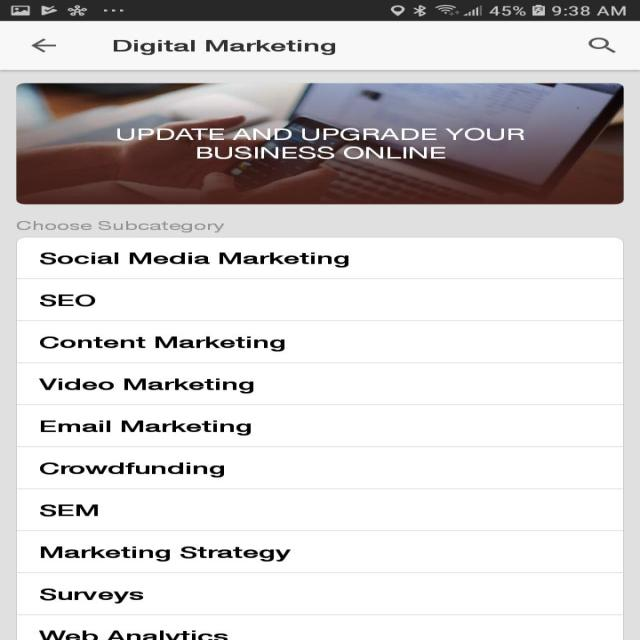Icon: (586, 36, 616, 53), (31, 38, 57, 53)
Image: (15, 83, 623, 204)
Text: (114, 126, 524, 160), (39, 252, 349, 267), (40, 545, 291, 562), (39, 335, 285, 352), (113, 39, 335, 56), (38, 377, 254, 394), (40, 419, 251, 436), (39, 461, 224, 478), (16, 220, 225, 233), (38, 630, 228, 640), (40, 588, 144, 604), (40, 504, 98, 516), (40, 294, 96, 306)
